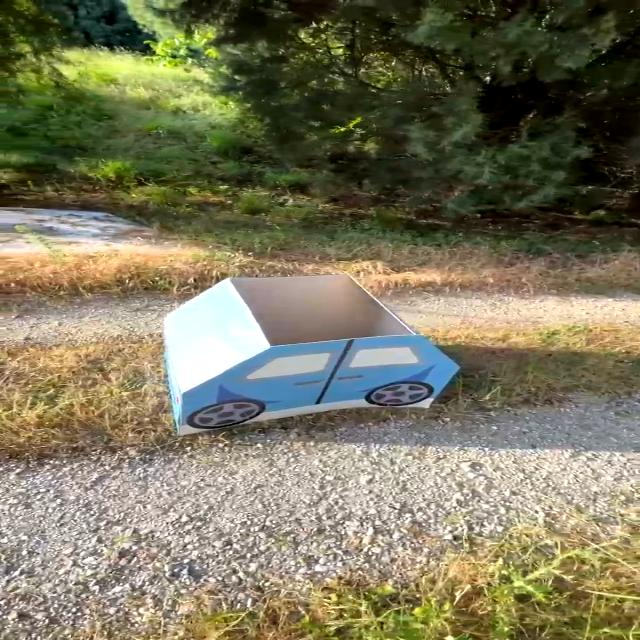blue_car: (96, 256, 489, 459)
